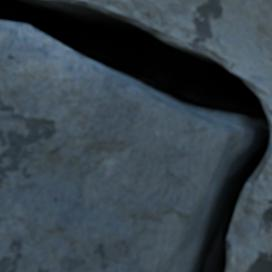brick: (0, 23, 245, 271)
crack: (0, 0, 271, 271)
